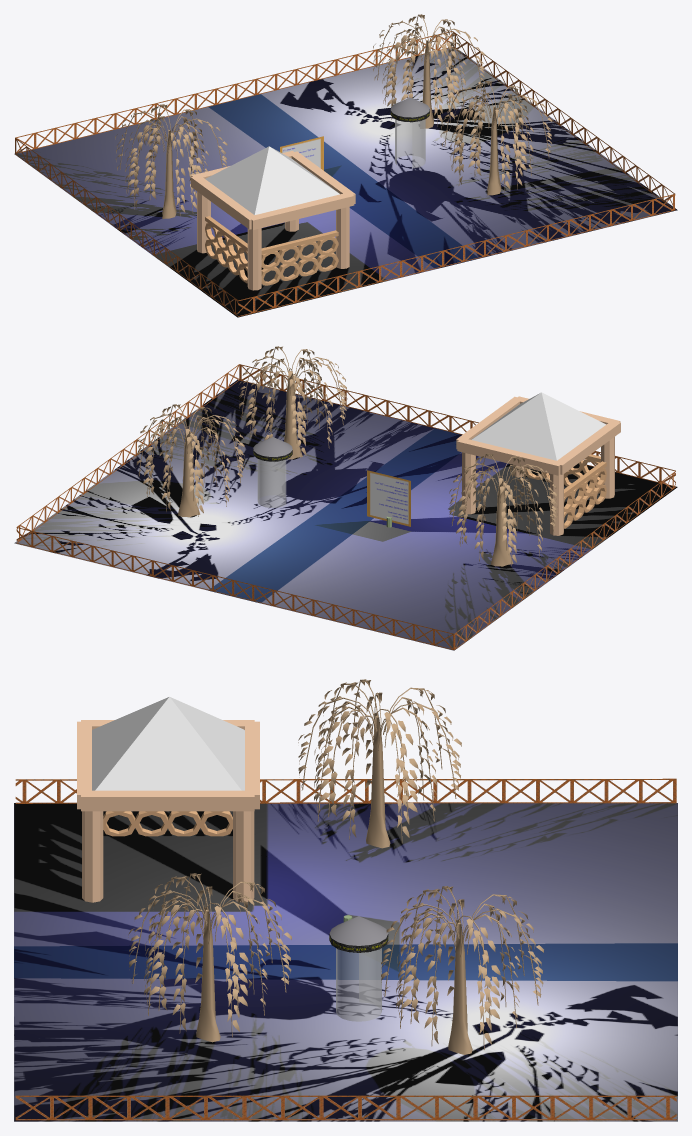
The model's file is base_level.gltf.
3 views of the same model, one above another, from view 1: azimuth 30°, elevation 25°; view 2: azimuth 150°, elevation 25°; view 3: azimuth 270°, elevation 25° (orthographic). The views are drawn at different scales.
Visible parts, largest first — view 1: BasePlane, Plane.001, HouseRoof, Tree_1, Tree_1.002, Tree_1.001, Budka.001, Cube.002, Cube, Circle.004, HouseSlupek_1, Plane.002 (+3 smaller); view 2: BasePlane, Plane.001, HouseRoof, Tree_1.002, Tree_1.001, Tree_1, Budka.001, Plane.002, Cube.003, Cube, Circle.001, Circle.002 (+2 smaller); view 3: BasePlane, Plane.001, HouseRoof, Tree_1.002, Tree_1.001, Tree_1, Budka.001, Cube.001, HouseSlupek_1, Circle.002, Cube.003, Cube.002.
Part boxes in pixels (bbox=[...]): BasePlane: bbox=[14, 47, 677, 317]; Plane.001: bbox=[15, 31, 675, 316]; HouseRoof: bbox=[205, 146, 339, 215]; Tree_1: bbox=[440, 81, 552, 195]; Tree_1.002: bbox=[115, 104, 227, 218]; Tree_1.001: bbox=[373, 14, 485, 128]; Budka.001: bbox=[390, 97, 429, 168]; Cube.002: bbox=[248, 192, 354, 229]; Cube: bbox=[191, 175, 257, 229]; Circle.004: bbox=[247, 228, 261, 290]; HouseSlupek_1: bbox=[336, 206, 349, 268]; Plane.002: bbox=[280, 136, 323, 170]; BasePlane: bbox=[14, 379, 677, 650]; Plane.001: bbox=[16, 364, 675, 649]; HouseRoof: bbox=[471, 392, 606, 460]; Tree_1.002: bbox=[449, 453, 557, 566]; Tree_1.001: bbox=[136, 404, 244, 517]; Tree_1: bbox=[238, 346, 347, 459]; Budka.001: bbox=[253, 437, 292, 507]; Plane.002: bbox=[367, 470, 410, 526]; Cube.003: bbox=[457, 439, 561, 475]; Cube: bbox=[554, 420, 620, 474]; Circle.001: bbox=[550, 474, 563, 535]; Circle.002: bbox=[462, 452, 475, 514]; BasePlane: bbox=[14, 803, 677, 1121]; Plane.001: bbox=[15, 778, 676, 1120]; HouseRoof: bbox=[92, 696, 244, 790]; Tree_1.002: bbox=[298, 679, 461, 848]; Tree_1.001: bbox=[380, 886, 543, 1054]; Tree_1: bbox=[128, 873, 291, 1042]; Budka.001: bbox=[329, 916, 388, 1021]; Cube.001: bbox=[81, 790, 254, 811]; HouseSlupek_1: bbox=[82, 811, 103, 902]; Circle.002: bbox=[233, 811, 254, 902]; Cube.003: bbox=[245, 721, 259, 809]; Cube.002: bbox=[77, 721, 91, 809].
Bounding box in the file's own units: 10 × 2.48 × 8.8.
Materials: 11 (5 with a texture image).
